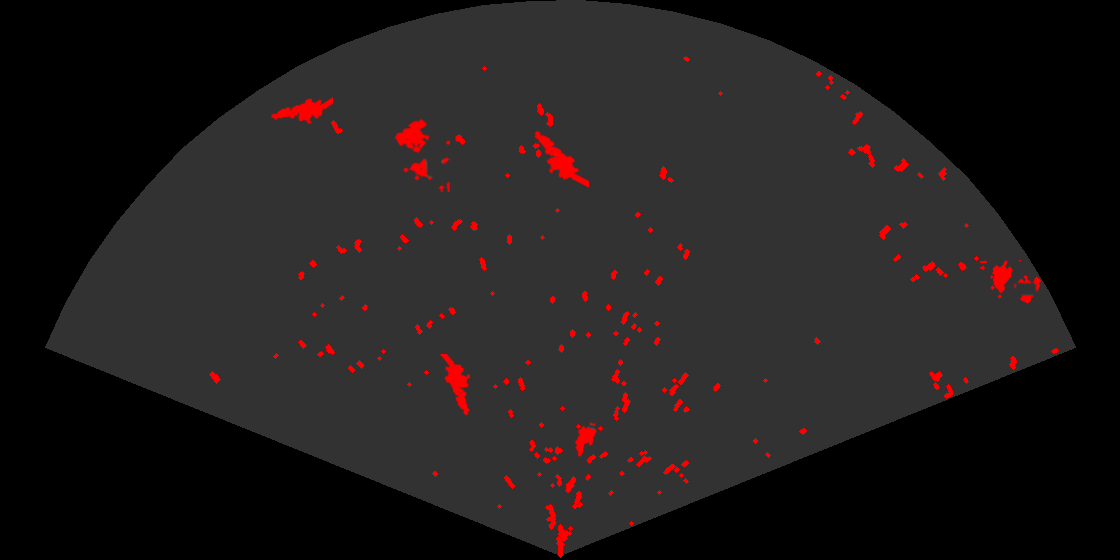AUV: (573, 420, 598, 459)
cage: (393, 117, 450, 192), (980, 260, 1043, 305)
frogman: (533, 129, 589, 189), (439, 354, 472, 417), (269, 96, 333, 126)
